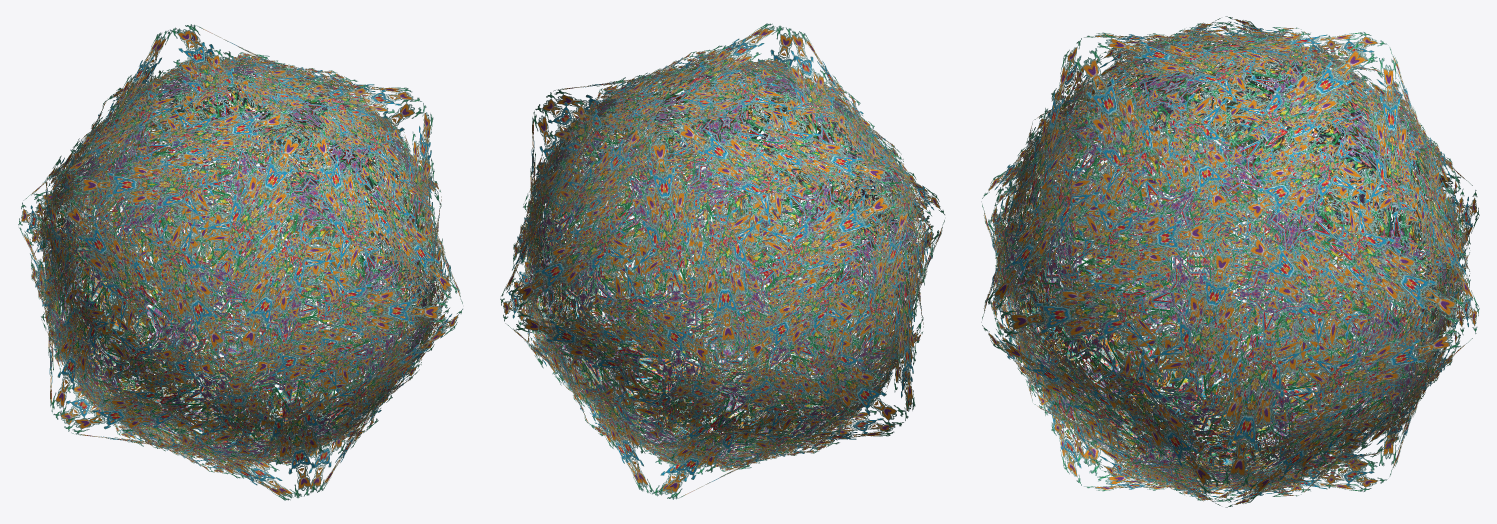
The model's file is 9MedialPentagonalHexecontahedron.gltf.
The picture shows the model from 3 angles, left to right: view 1: azimuth 30°, elevation 25°; view 2: azimuth 150°, elevation 25°; view 3: azimuth 270°, elevation 25°; orthographic projection. The views are drawn at different scales.
Parts seen in each view (by area): view 1: MedialPentagonalHexecontahedron8; view 2: MedialPentagonalHexecontahedron8; view 3: MedialPentagonalHexecontahedron8.
Part boxes in pixels (x1,y1,x2,y2): MedialPentagonalHexecontahedron8: (18,24,462,500); MedialPentagonalHexecontahedron8: (500,23,944,499); MedialPentagonalHexecontahedron8: (981,16,1479,507).
Size of the model in its own units: 2.46 by 2.46 by 2.46.
Materials: 1 (1 with a texture image).
